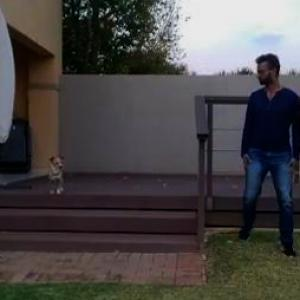follow: (238, 47, 298, 266)
